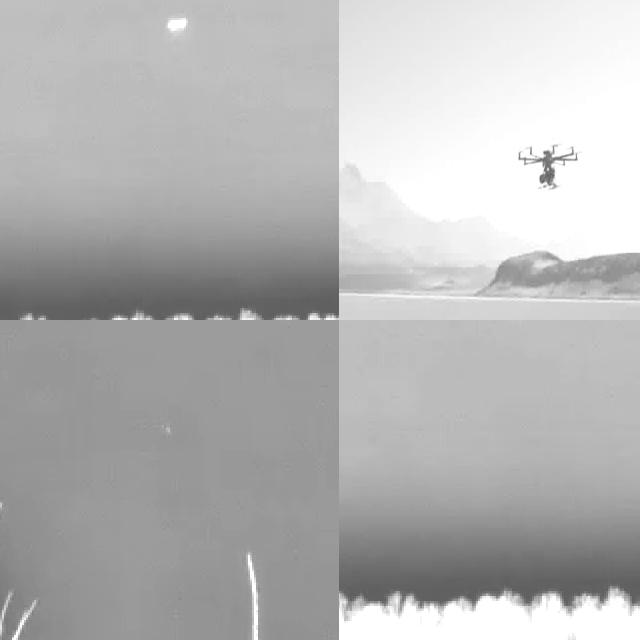0: (160, 420, 184, 448)
1: (145, 7, 213, 49), (502, 320, 538, 327)
drone: (518, 139, 584, 195)
